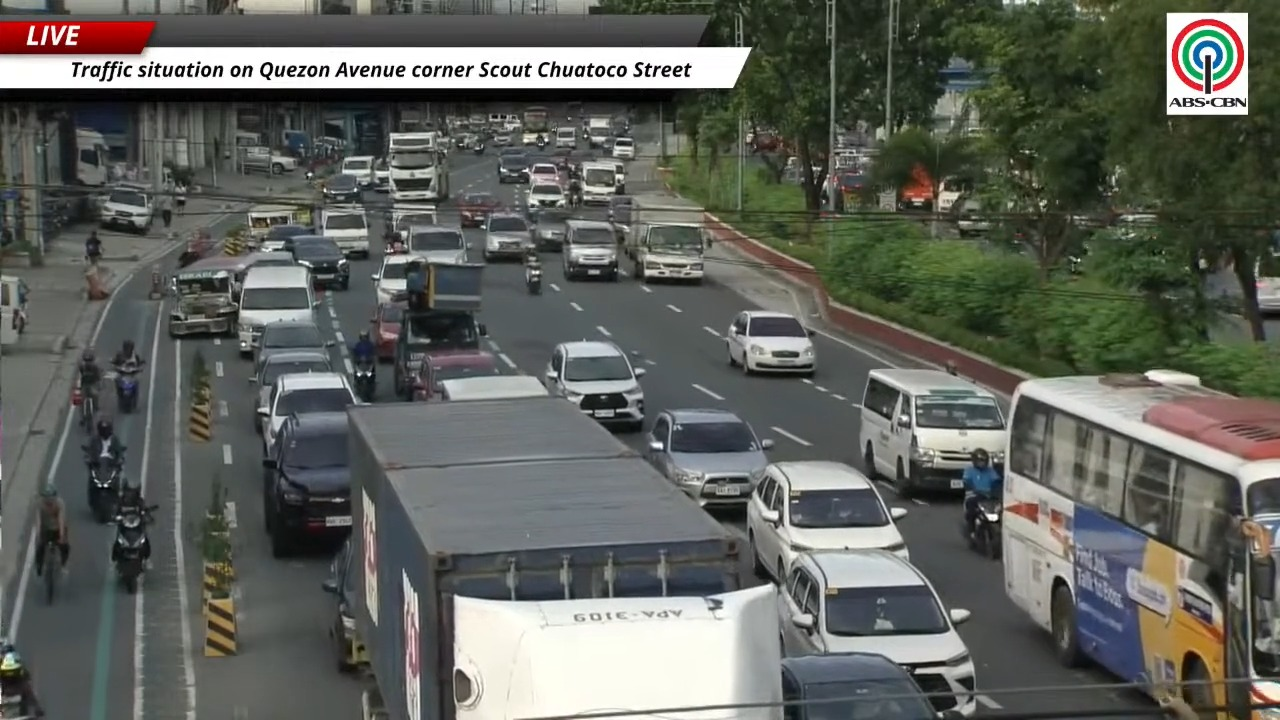bus: (1002, 370, 1279, 719), (521, 106, 551, 145)
car: (778, 551, 976, 716), (746, 460, 908, 581), (263, 411, 351, 557), (642, 408, 772, 506), (781, 652, 962, 719), (544, 340, 645, 431), (257, 372, 358, 456), (392, 308, 486, 397), (322, 537, 369, 671), (725, 310, 815, 376), (251, 350, 333, 417), (410, 350, 500, 400), (255, 321, 332, 371), (561, 218, 619, 281), (292, 237, 349, 290), (401, 225, 469, 264), (100, 186, 155, 233), (371, 253, 422, 303), (483, 212, 533, 261), (370, 302, 405, 362), (384, 204, 437, 239), (951, 196, 990, 237), (534, 209, 572, 251), (456, 192, 500, 227), (525, 177, 567, 213), (258, 224, 313, 251), (268, 234, 335, 256), (1256, 251, 1279, 314), (339, 156, 374, 188), (323, 174, 361, 203), (607, 195, 633, 236), (244, 252, 296, 271), (499, 153, 528, 183), (529, 162, 560, 184), (498, 147, 528, 167), (373, 158, 390, 193), (611, 137, 635, 159), (492, 132, 512, 146)
motorcycle: (112, 505, 157, 593), (85, 446, 122, 523), (964, 499, 1002, 559), (115, 361, 140, 413), (353, 360, 375, 402), (0, 693, 34, 719), (526, 264, 542, 294), (536, 135, 546, 150), (473, 143, 484, 154)
truck: (342, 397, 779, 719), (625, 193, 707, 283), (386, 132, 449, 203), (75, 128, 109, 186), (237, 146, 298, 174)
